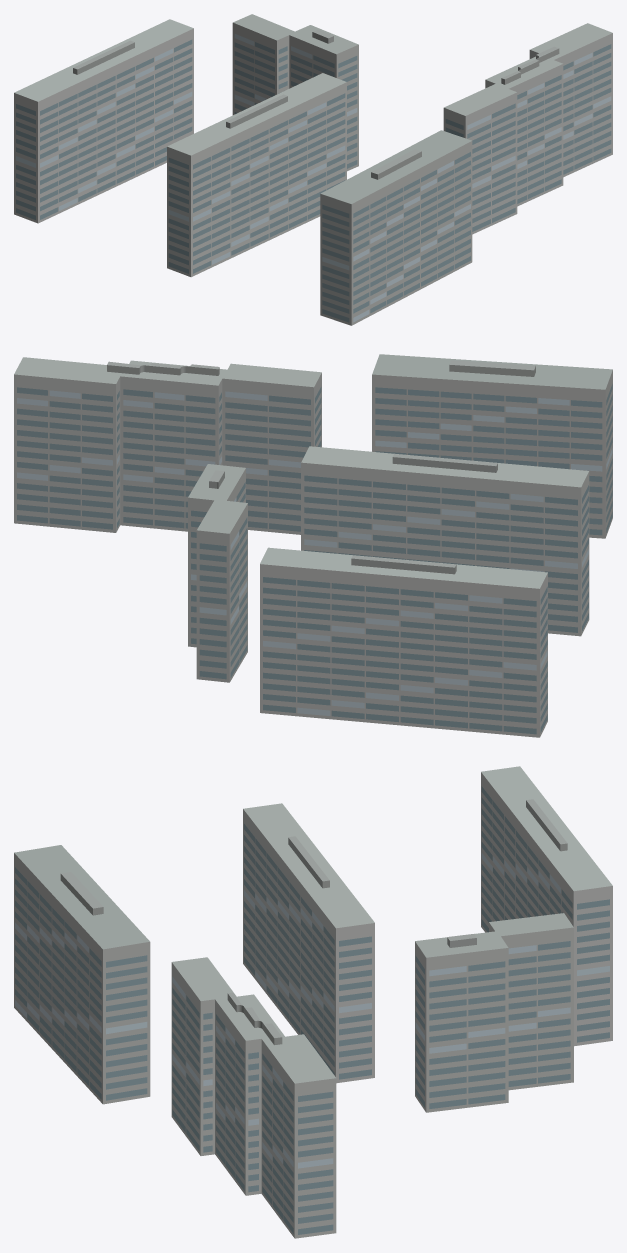
File: apt-a13583403.glb
3 views of the same model, one above another, from view 1: azimuth 30°, elevation 25°; view 2: azimuth 150°, elevation 25°; view 3: azimuth 270°, elevation 25° (orthographic). The views are drawn at different scales.
Parts seen in each view (by area): view 1: apt-a13583403; view 2: apt-a13583403; view 3: apt-a13583403.
Boxes of the visible parts, <box> form: apt-a13583403: <box>14,14,612,325</box>; apt-a13583403: <box>14,354,612,737</box>; apt-a13583403: <box>14,766,612,1238</box>.
Bounding box in the file's own units: 188 × 44.62 × 150.
